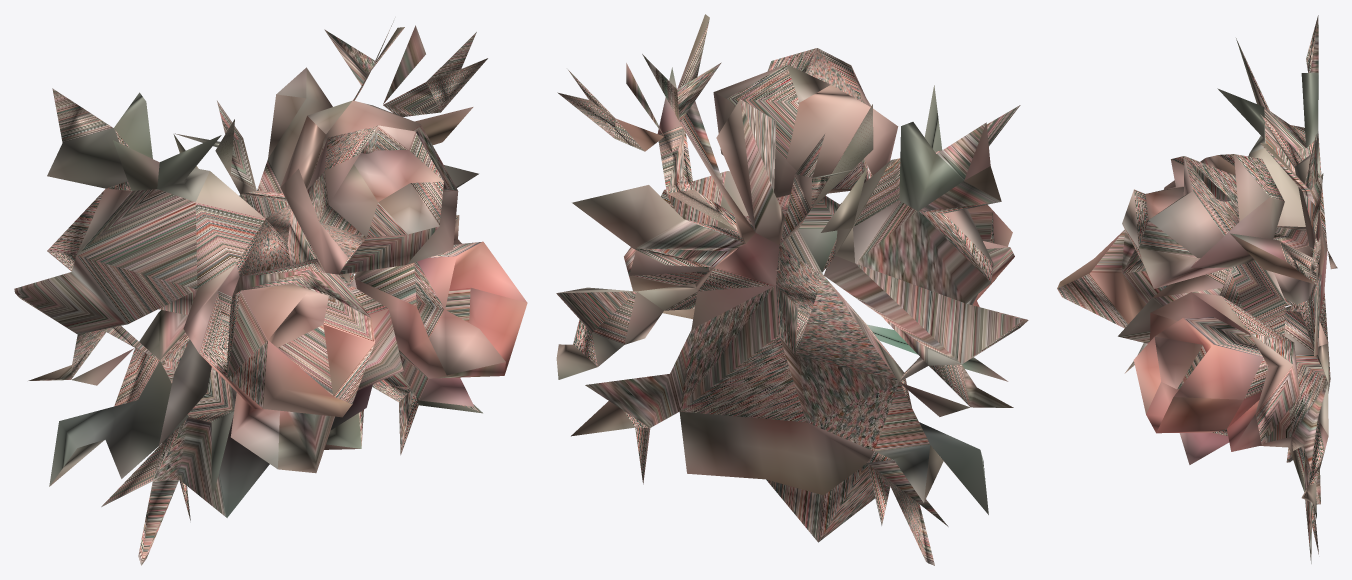
3 views of the same model, side by side, from view 1: azimuth 30°, elevation 25°; view 2: azimuth 150°, elevation 25°; view 3: azimuth 270°, elevation 25° (orthographic). The views are drawn at different scales.
Visible parts, largest first — view 1: Rose-Bouquet-9-05; view 2: Rose-Bouquet-9-05; view 3: Rose-Bouquet-9-05.
Part boxes in pixels (bbox=[...]): Rose-Bouquet-9-05: bbox=[14, 21, 527, 565]; Rose-Bouquet-9-05: bbox=[556, 14, 1028, 565]; Rose-Bouquet-9-05: bbox=[1057, 15, 1337, 563].
Size of the model in its own units: 0.2439 by 0.2364 by 0.1414.
Materials: 1 (1 with a texture image).
